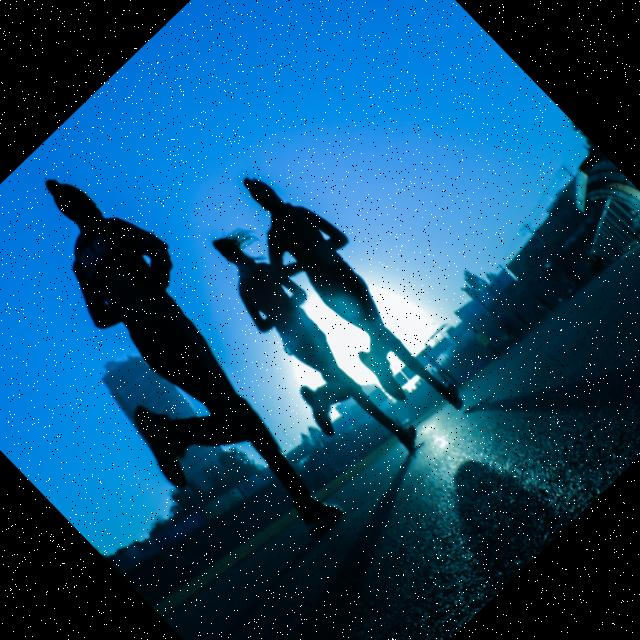Person: (0, 149, 388, 585), (212, 156, 488, 437), (178, 221, 436, 484)
